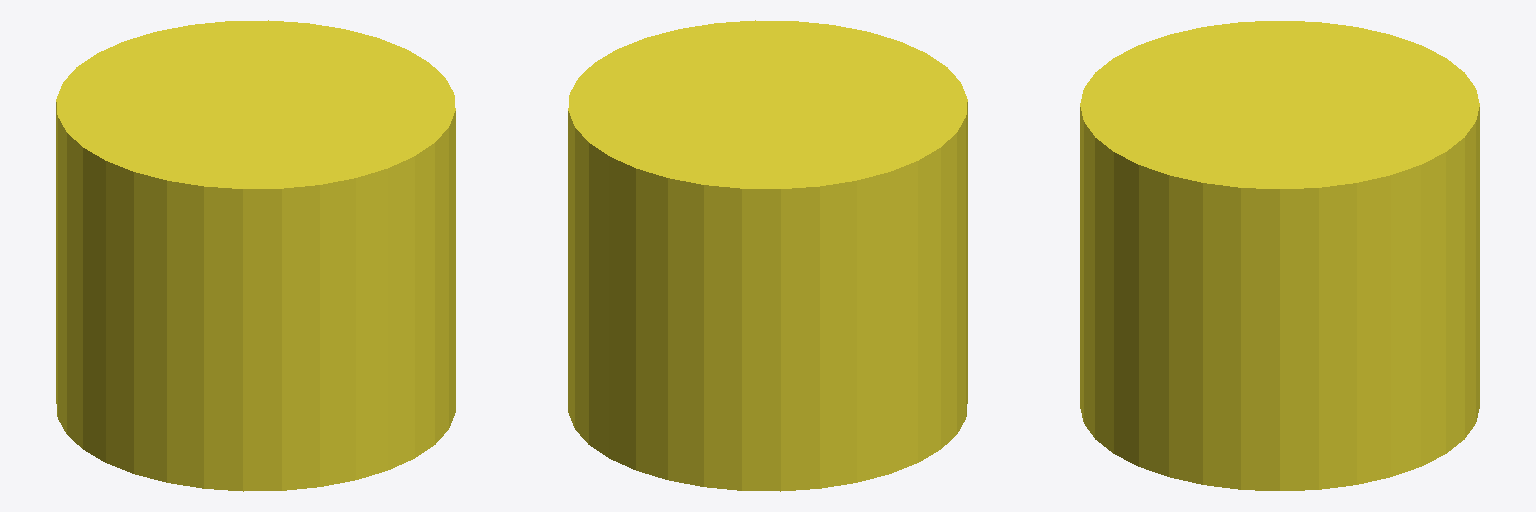
The robot description file, URDF, robot "se2":
<?xml version="1.0"?>
<robot name="se2">

  <link name="root">
    <inertial>
      <mass value="1.0e-3"/>
      <inertia ixx="1.0e-8" ixy="0.0" ixz="0.0" iyy="1.0e-8" iyz="0.0" izz="1.0e-8"/>
    </inertial>
  </link>

  <link name="link_x">
    <inertial>
      <mass value="1.0e-3"/>
      <inertia ixx="1.0e-8" ixy="0.0" ixz="0.0" iyy="1.0e-8" iyz="0.0" izz="1.0e-8"/>
    </inertial>
  </link>

  <joint name="joint_x" type="prismatic">
    <parent link="root"/>
    <child link="link_x"/>
    <origin xyz="0 0 0"/>
    <axis xyz="1 0 0"/>
    <limit lower="-150.0" upper="150.0" effort="1000.0" velocity="1.5"/>
  </joint>

  <link name="link_y">
    <inertial>
      <mass value="1.0e-3"/>
      <inertia ixx="1.0e-8" ixy="0.0" ixz="0.0" iyy="1.0e-8" iyz="0.0" izz="1.0e-8"/>
    </inertial>
  </link>

  <joint name="joint_y" type="prismatic">
    <parent link="link_x"/>
    <child link="link_y"/>
    <origin xyz="0 0 0"/>
    <axis xyz="0 1 0"/>
    <limit lower="-150.0" upper="150.0" effort="1000.0" velocity="1.5"/>
  </joint>

  <link name="base">
    <inertial>
      <mass value="50.0"/>
      <!--2/5*MR^2-->
      <inertia ixx="0.645" ixy="0.0" ixz="0.0" iyy="0.645" iyz="0.0" izz="2.25"/>
    </inertial>
    <collision>
      <geometry>
        <cylinder radius="0.36" length="0.5"/>
      </geometry>
    </collision>
    <visual>
      <geometry>
        <cylinder radius="0.36" length="0.6"/>
      </geometry>
    </visual>
  </link>

  <joint name="joint_z" type="revolute">
    <parent link="link_y"/>
    <child link="base"/>
    <origin xyz="0 0 0"/>
    <axis xyz="0 0 1"/>
    <limit lower="-150.0" upper="150.0" effort="1000.0" velocity="4.0"/>
  </joint>

</robot>

--- Facts derived from the render (not from the file) ---
3 views of the same robot in one strip: view 1: azimuth 30°, elevation 25°; view 2: azimuth 150°, elevation 25°; view 3: azimuth 270°, elevation 25° (orthographic).
Model se2 with 4 links and 3 joints (1 revolute, 2 prismatic), rooted at root, posed every joint at zero.
Visible links, largest first — view 1: base; view 2: base; view 3: base.
Boxes of the visible links, x1,y1,x2,y2 form: base: [56, 20, 455, 491]; base: [568, 20, 967, 491]; base: [1080, 21, 1479, 490].
Bounding box of the posed robot: 0.72 × 0.72 × 0.6 m (x, y, z).
Geometry: primitives only (box / cylinder / sphere), no mesh files.